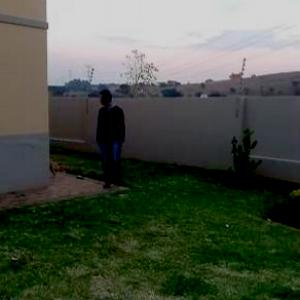follow: (94, 87, 128, 189)
